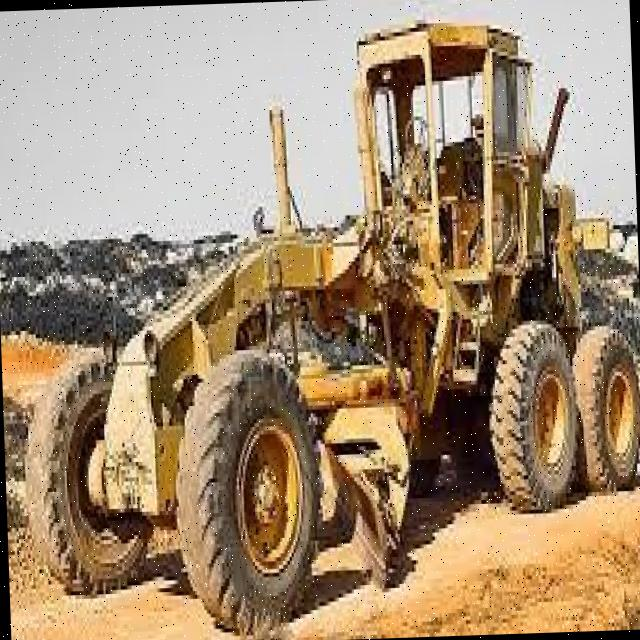Grader: (25, 8, 640, 640)
